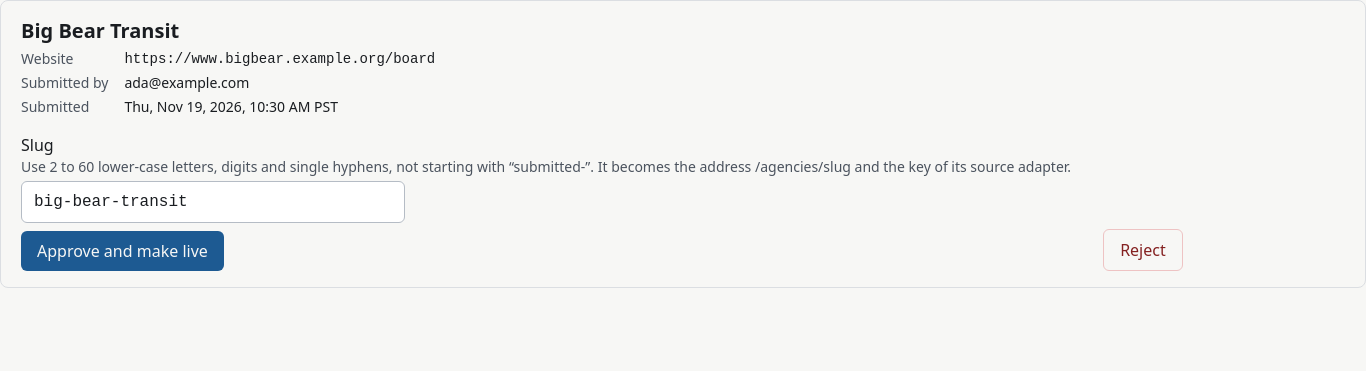
it: ReviewItem › explains not-allowed
Click the button "Approve and make live" at (122, 251), box 21,231 -> 224,271
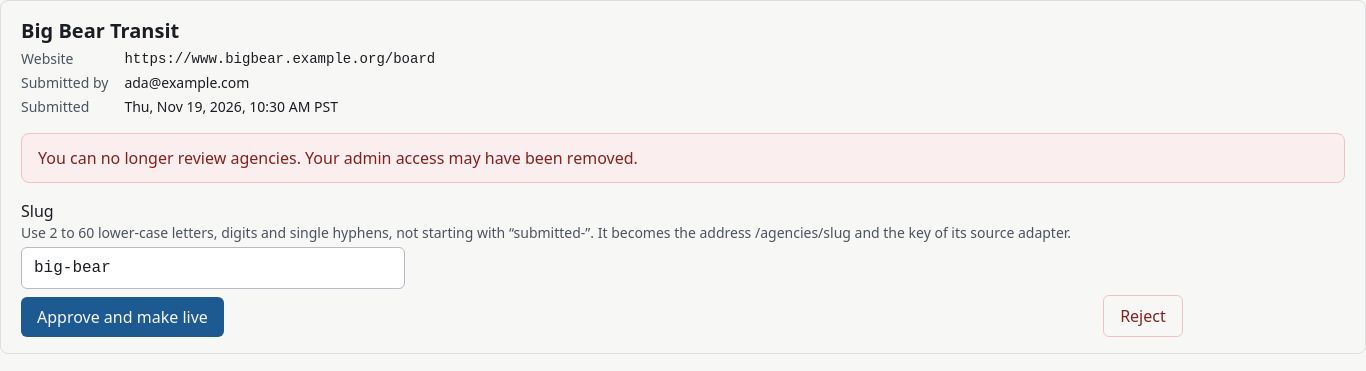
Expected: the message shows "can no longer review", 38,147 -> 638,169
